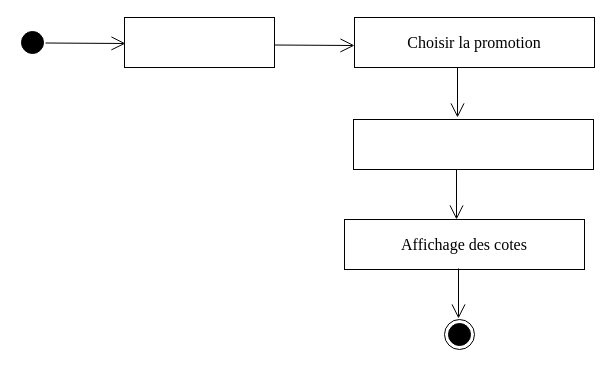
Some shapes in this 612 by 367 pixel diagram are drawn without their labels. Here are the shapes that lost their labels. From the top down, the box of each, then its label:
(124, 16, 274, 68): Choisir de consulter les cotes
(352, 118, 594, 170): Saisit des identifiants
